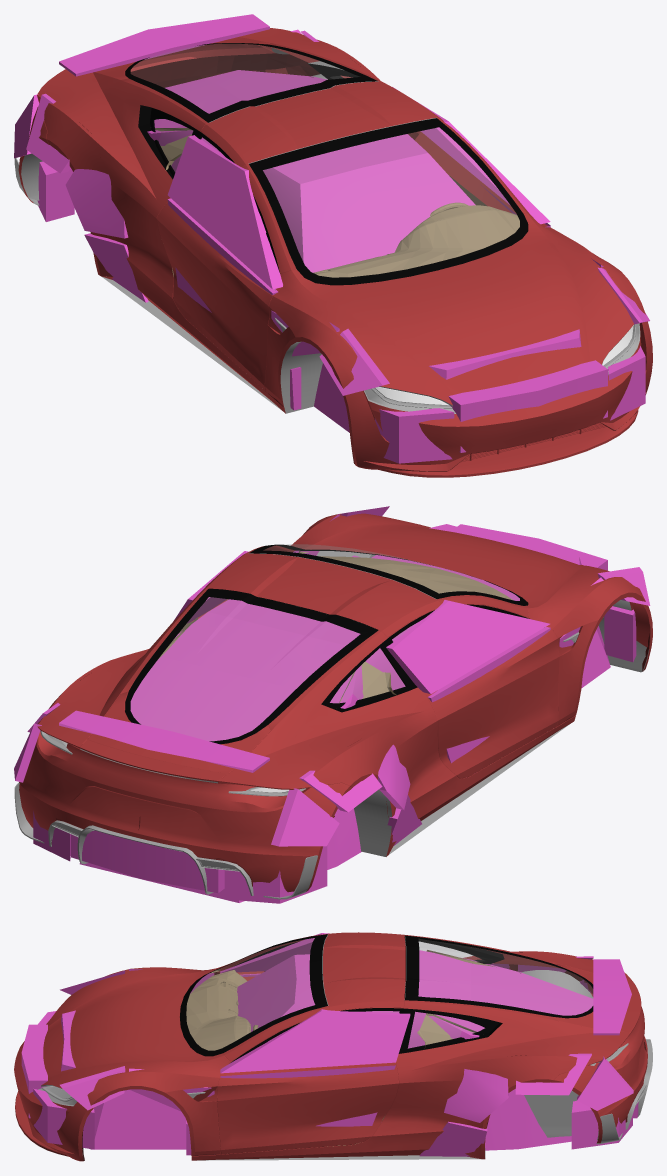
The model's file is Tesla_new.fbx.
3 renders of one model, top to bottom at view 1: azimuth 30°, elevation 25°; view 2: azimuth 150°, elevation 25°; view 3: azimuth 270°, elevation 25°, orthographic. The views are drawn at different scales.
Visible parts, largest first — view 1: pasted__polySurface19, pasted__polySurface687, pasted__pasted__BodyCol1, pasted__polySurface681, pasted__polySurface671, pasted__polySurface686, DoorFrontRightCol1, salon, SpoilerCol, pasted__BumperRCol2, pasted__polySurface614, pasted__pasted__BodyCol2 (+13 smaller); view 2: pasted__polySurface19, pasted__pasted__BodyCol1, pasted__polySurface686, pasted__polySurface223, pasted__polySurface671, DoorFrontRightCol1, BumperRCol2, SpoilerCol, pasted__polySurface614, pasted__polySurface687, salon, WingRRCol1 (+13 smaller); view 3: pasted__polySurface19, pasted__pasted__BodyCol1, pasted__polySurface668, pasted__polySurface687, pasted__polySurface686, DoorFrontLeftCol1, pasted__pasted__BodyCol2, salon, pasted__polySurface616, pasted__polySurface223, SpoilerCol, pasted__polySurface681 (+12 smaller).
Boxes of the visible parts, x1,y1,x2,y2 form: pasted__polySurface19: (21,28,646,463); pasted__polySurface687: (263,128,519,276); pasted__pasted__BodyCol1: (147,70,475,272); pasted__polySurface681: (339,303,652,477); pasted__polySurface671: (156,202,279,390); pasted__polySurface686: (131,44,358,113); DoorFrontRightCol1: (167,135,282,289); salon: (155,76,519,290); SpoilerCol: (59,14,269,76); pasted__BumperRCol2: (448,360,607,452); pasted__polySurface614: (265,296,357,407); pasted__pasted__BodyCol2: (314,329,581,432); pasted__polySurface19: (36,513,650,894); pasted__pasted__BodyCol1: (79,599,405,902); pasted__polySurface686: (131,597,359,740); pasted__polySurface223: (14,720,351,899); pasted__polySurface671: (425,609,559,778); DoorFrontRightCol1: (380,600,549,693); BumperRCol2: (71,830,224,892); SpoilerCol: (59,710,269,772); pasted__polySurface614: (552,577,641,726); pasted__polySurface687: (265,544,519,600); salon: (158,551,544,702); WingRRCol1: (271,788,339,846); pasted__polySurface19: (14,932,652,1160); pasted__pasted__BodyCol1: (237,950,593,1150); pasted__polySurface668: (217,1040,398,1154); pasted__polySurface687: (187,938,314,1049); pasted__polySurface686: (419,939,592,1014); DoorFrontLeftCol1: (220,1009,410,1073); pasted__pasted__BodyCol2: (61,1010,186,1149); salon: (186,950,520,1146); pasted__polySurface616: (87,1072,220,1155); pasted__polySurface223: (551,992,647,1144); SpoilerCol: (593,959,631,1035); pasted__polySurface681: (15,1081,97,1161).
Size of the model in its own units: 2.05 by 1.14 by 4.52.
